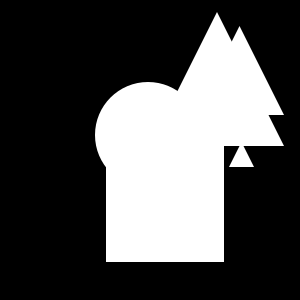circle: (106, 144, 224, 262)
rectangle: (95, 82, 201, 188)
triangle: (150, 12, 284, 146), (195, 26, 284, 115), (229, 142, 254, 167)
